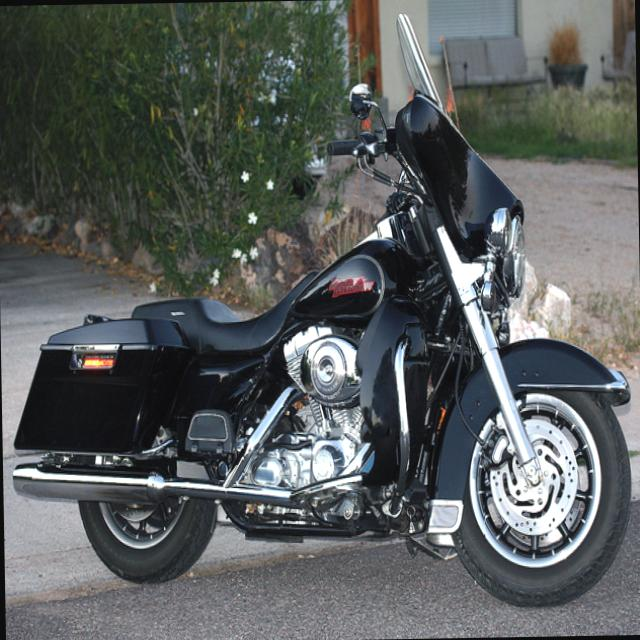Vehicle: (1, 2, 638, 624)
